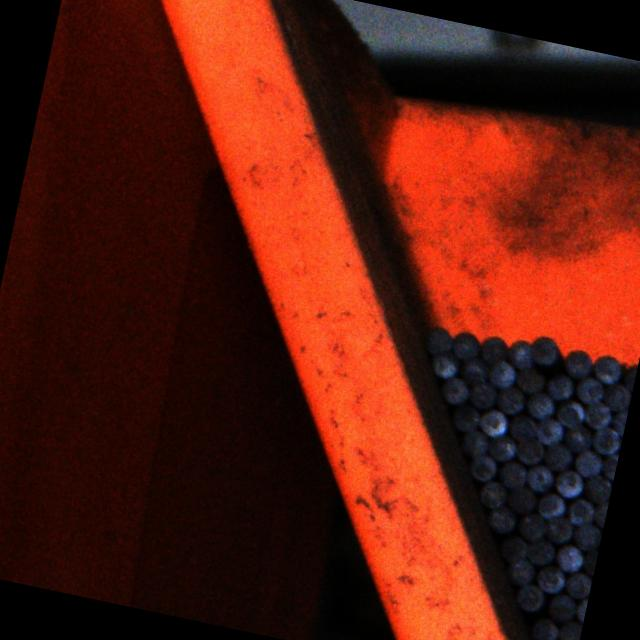tool: (592, 351, 626, 385), (529, 333, 562, 368), (477, 332, 510, 367), (494, 382, 527, 416), (562, 346, 595, 380), (581, 398, 614, 432), (458, 352, 491, 386), (551, 467, 584, 500), (590, 424, 624, 456), (448, 328, 481, 360), (465, 449, 497, 482), (539, 441, 572, 473), (475, 406, 508, 438), (572, 374, 605, 406), (424, 323, 456, 356), (507, 337, 538, 371), (562, 568, 594, 600), (534, 562, 566, 594), (484, 502, 516, 534), (515, 580, 547, 612), (438, 374, 470, 406), (522, 389, 554, 421), (516, 510, 548, 542), (522, 462, 554, 494), (562, 421, 594, 453), (503, 484, 535, 516), (449, 402, 481, 434), (497, 532, 529, 564), (486, 359, 518, 391), (486, 432, 518, 464), (504, 555, 536, 587), (553, 542, 585, 574), (495, 458, 527, 490), (582, 472, 614, 504), (544, 590, 576, 622), (554, 396, 586, 428), (512, 364, 546, 394), (570, 520, 604, 550), (532, 491, 564, 522), (602, 382, 633, 414), (542, 514, 573, 546), (467, 378, 498, 410), (504, 411, 536, 442), (477, 478, 508, 509), (429, 348, 460, 379), (565, 497, 596, 528), (458, 426, 489, 457), (514, 437, 545, 468), (572, 448, 604, 478), (534, 416, 565, 446), (543, 372, 574, 402), (526, 536, 556, 566), (527, 613, 558, 640), (556, 616, 583, 640), (592, 496, 610, 526), (579, 548, 598, 576), (600, 452, 618, 481), (610, 408, 628, 436), (622, 361, 638, 392), (573, 594, 588, 623)
